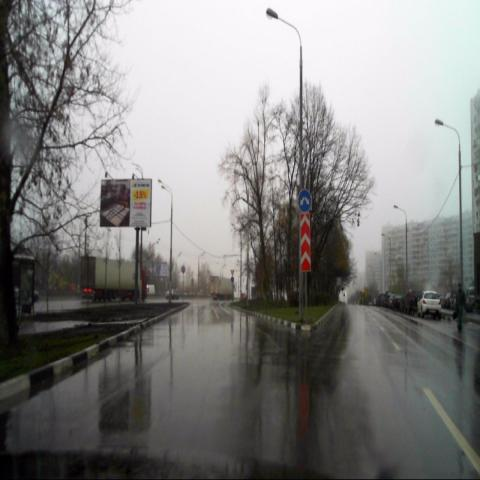4_2_3: (298, 190, 311, 212)
